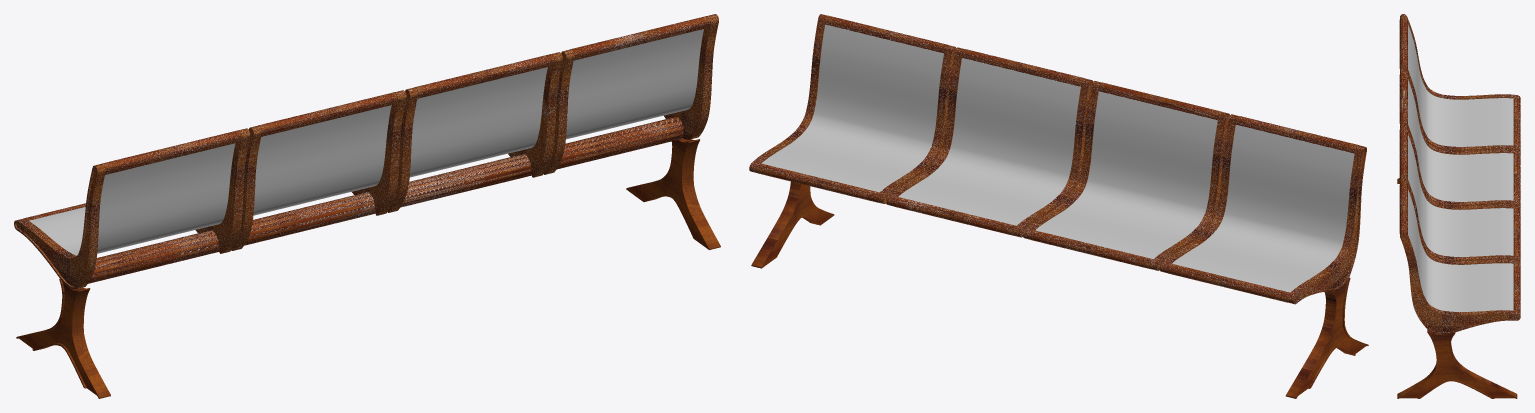
3 views of the same model, side by side, from view 1: azimuth 30°, elevation 25°; view 2: azimuth 150°, elevation 25°; view 3: azimuth 270°, elevation 25° (orthographic). The views are drawn at different scales.
Parts seen in each view (by area): view 1: mesh14_mesh14-geometry, mesh11_mesh11-geometry, mesh2_mesh2-geometry, mesh7_mesh7-geometry, mesh1_mesh1-geometry, mesh4_mesh4-geometry, mesh5_mesh5-geometry, mesh12_mesh12-geometry, mesh13_mesh13-geometry, mesh10_mesh10-geometry, mesh9_mesh9-geometry, mesh6_mesh6-geometry; view 2: mesh14_mesh14-geometry, mesh2_mesh2-geometry, mesh7_mesh7-geometry, mesh1_mesh1-geometry, mesh4_mesh4-geometry, mesh5_mesh5-geometry, mesh12_mesh12-geometry, mesh9_mesh9-geometry, mesh13_mesh13-geometry, mesh6_mesh6-geometry, mesh10_mesh10-geometry; view 3: mesh14_mesh14-geometry, mesh2_mesh2-geometry, mesh7_mesh7-geometry, mesh1_mesh1-geometry, mesh10_mesh10-geometry, mesh13_mesh13-geometry, mesh4_mesh4-geometry, mesh9_mesh9-geometry, mesh6_mesh6-geometry, mesh5_mesh5-geometry.
Part boxes in pixels (x1=…): mesh14_mesh14-geometry: x1=253, y1=67, x2=547, y2=215; mesh11_mesh11-geometry: x1=88, y1=117, x2=683, y2=283; mesh2_mesh2-geometry: x1=29, y1=143, x2=235, y2=255; mesh7_mesh7-geometry: x1=566, y1=29, x2=703, y2=139; mesh1_mesh1-geometry: x1=195, y1=52, x2=562, y2=253; mesh4_mesh4-geometry: x1=23, y1=54, x2=554, y2=220; mesh5_mesh5-geometry: x1=14, y1=163, x2=105, y2=289; mesh12_mesh12-geometry: x1=16, y1=279, x2=110, y2=398; mesh13_mesh13-geometry: x1=626, y1=138, x2=720, y2=249; mesh10_mesh10-geometry: x1=664, y1=14, x2=718, y2=139; mesh9_mesh9-geometry: x1=571, y1=16, x2=710, y2=60; mesh6_mesh6-geometry: x1=544, y1=49, x2=574, y2=174; mesh14_mesh14-geometry: x1=898, y1=58, x2=1217, y2=259; mesh2_mesh2-geometry: x1=1172, y1=125, x2=1354, y2=292; mesh7_mesh7-geometry: x1=761, y1=24, x2=943, y2=192; mesh1_mesh1-geometry: x1=886, y1=47, x2=1237, y2=272; mesh4_mesh4-geometry: x1=893, y1=49, x2=1357, y2=302; mesh5_mesh5-geometry: x1=1286, y1=145, x2=1366, y2=304; mesh12_mesh12-geometry: x1=1285, y1=277, x2=1368, y2=398; mesh9_mesh9-geometry: x1=756, y1=15, x2=947, y2=202; mesh13_mesh13-geometry: x1=751, y1=181, x2=834, y2=268; mesh6_mesh6-geometry: x1=876, y1=45, x2=956, y2=203; mesh10_mesh10-geometry: x1=749, y1=14, x2=827, y2=172; mesh14_mesh14-geometry: x1=1408, y1=79, x2=1513, y2=256; mesh2_mesh2-geometry: x1=1408, y1=24, x2=1513, y2=146; mesh7_mesh7-geometry: x1=1408, y1=189, x2=1513, y2=311; mesh1_mesh1-geometry: x1=1400, y1=65, x2=1520, y2=262; mesh10_mesh10-geometry: x1=1400, y1=230, x2=1520, y2=334; mesh13_mesh13-geometry: x1=1397, y1=329, x2=1517, y2=398; mesh4_mesh4-geometry: x1=1399, y1=17, x2=1520, y2=258; mesh9_mesh9-geometry: x1=1399, y1=182, x2=1520, y2=313; mesh6_mesh6-geometry: x1=1400, y1=179, x2=1520, y2=264; mesh5_mesh5-geometry: x1=1400, y1=14, x2=1520, y2=99.
Bounding box in the file's own units: 0.9199 × 0.3253 × 0.2191.
